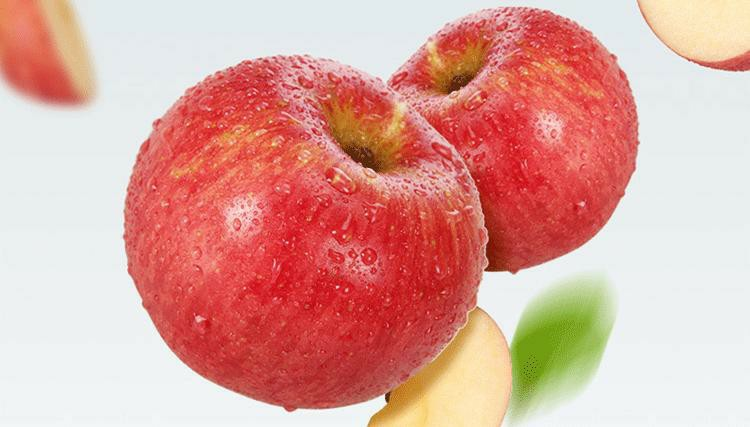fresh_apple: (127, 54, 481, 409), (390, 8, 636, 274)
